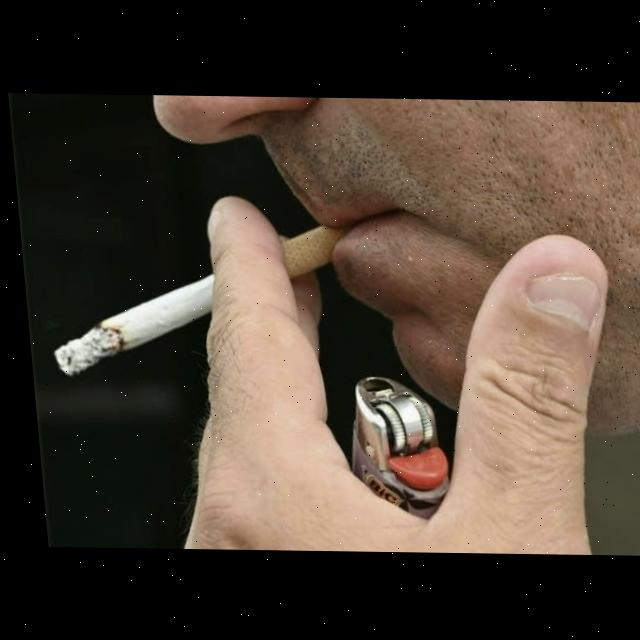cigarette: (37, 220, 356, 380)
